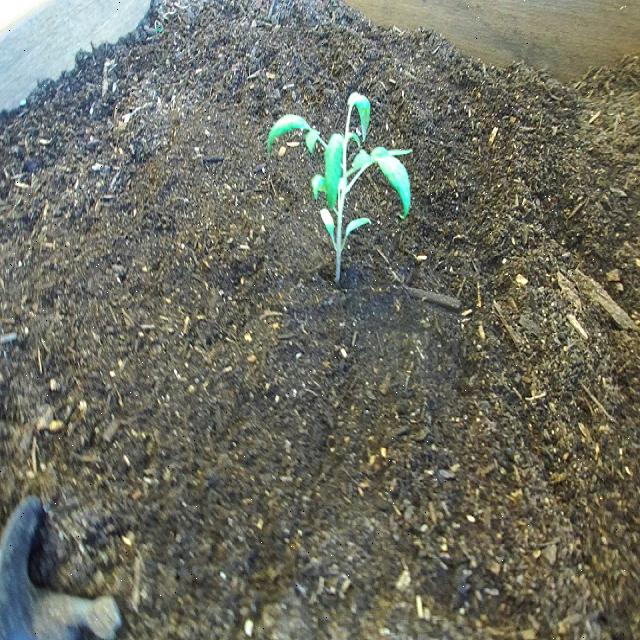Healthy: (262, 86, 418, 294)
